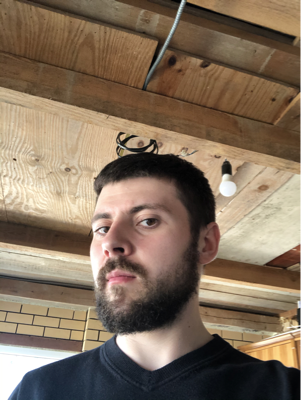without_mask: (90, 200, 184, 333)
